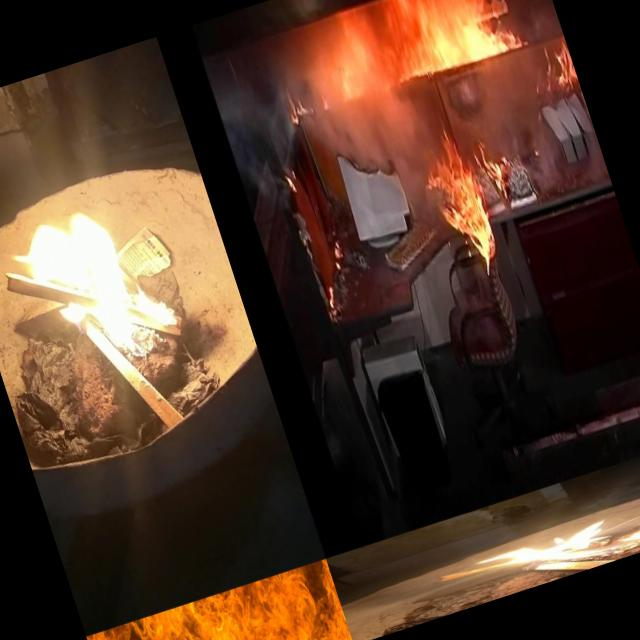fire: (0, 181, 197, 383), (282, 0, 526, 115), (86, 559, 354, 640), (402, 112, 524, 273), (485, 492, 640, 595), (522, 32, 583, 106)
